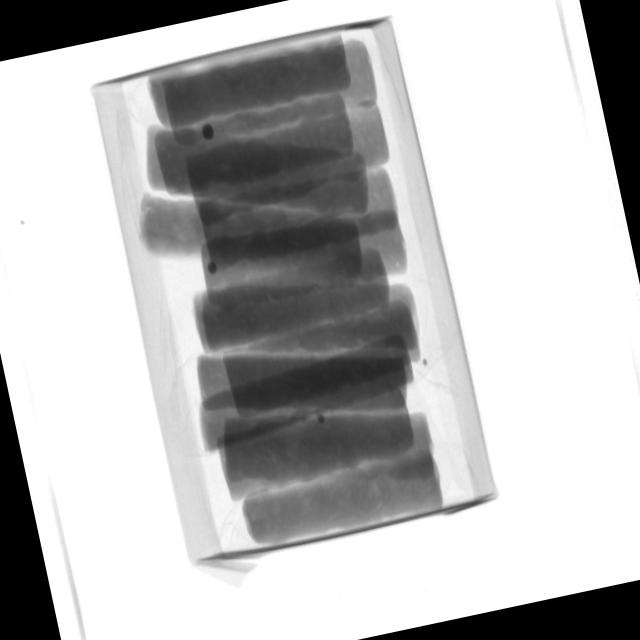ym: (201, 122, 217, 141), (207, 262, 219, 276), (317, 415, 326, 425), (423, 358, 430, 366)
